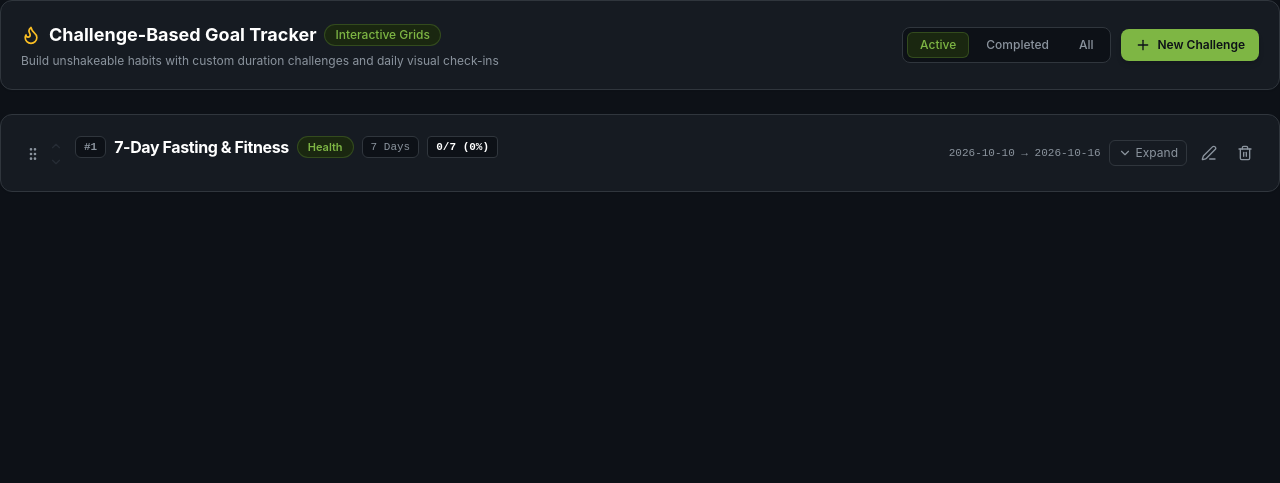
User Journey & Edge Case Testing Suite › ChallengeTracker Minimize/Maximize & Tab Switch Auto-Minimize › starts minimized and toggles open when clicking anywhere on the header bar
This screenshot has width=1280, height=483.
Expected: the text "Day-by-Day Check-in Grid" is not shown
Expected: the text "Expand" is shown, left=1136, top=145, right=1178, bottom=161
# Click anywhere on the challenge header bar
Click the text "7-Day Fasting & Fitness" at (91, 147), box left=15, top=129, right=1265, bottom=177
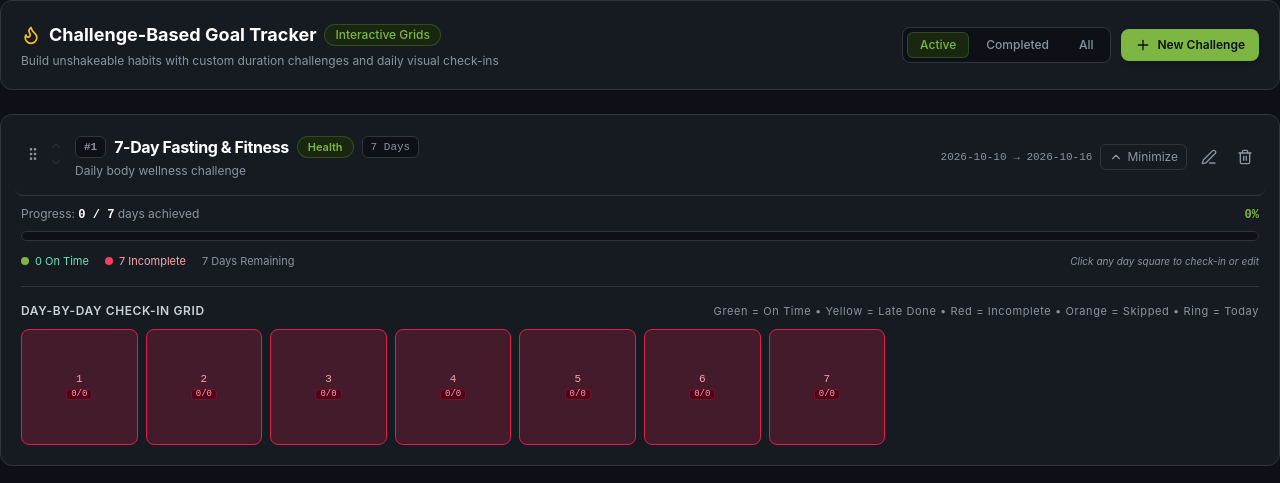
Now the text "Day-by-Day Check-in Grid" is shown, box left=21, top=302, right=205, bottom=318
Now the text "Minimize" is shown, box left=1127, top=149, right=1178, bottom=165
# Click the top portion of the header again to collapse
Click the text "7-Day Fasting & Fitness" at (640, 162), box left=15, top=129, right=1265, bottom=196
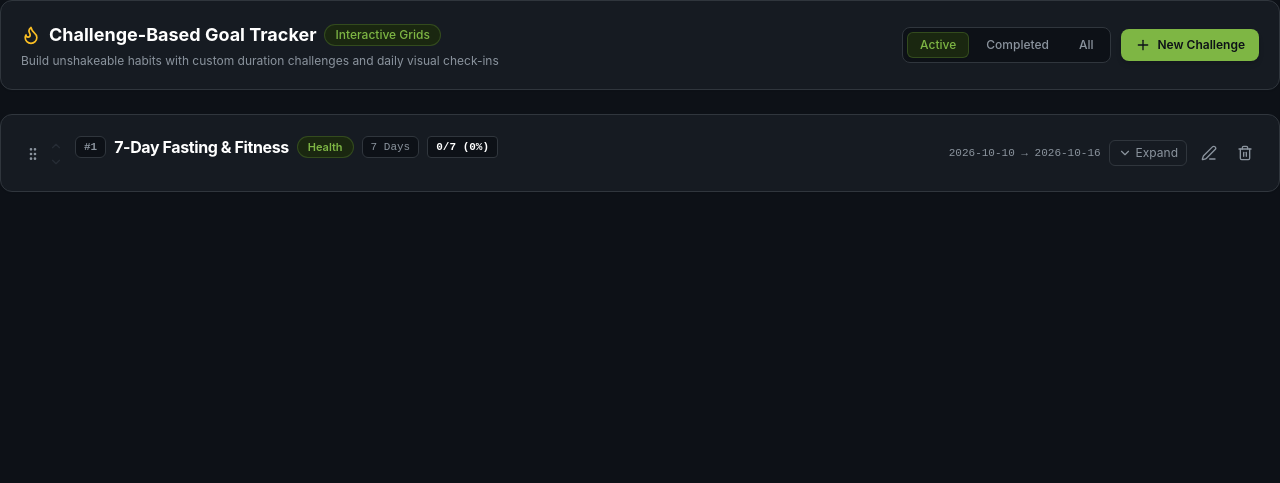
Now the text "Day-by-Day Check-in Grid" is gone
